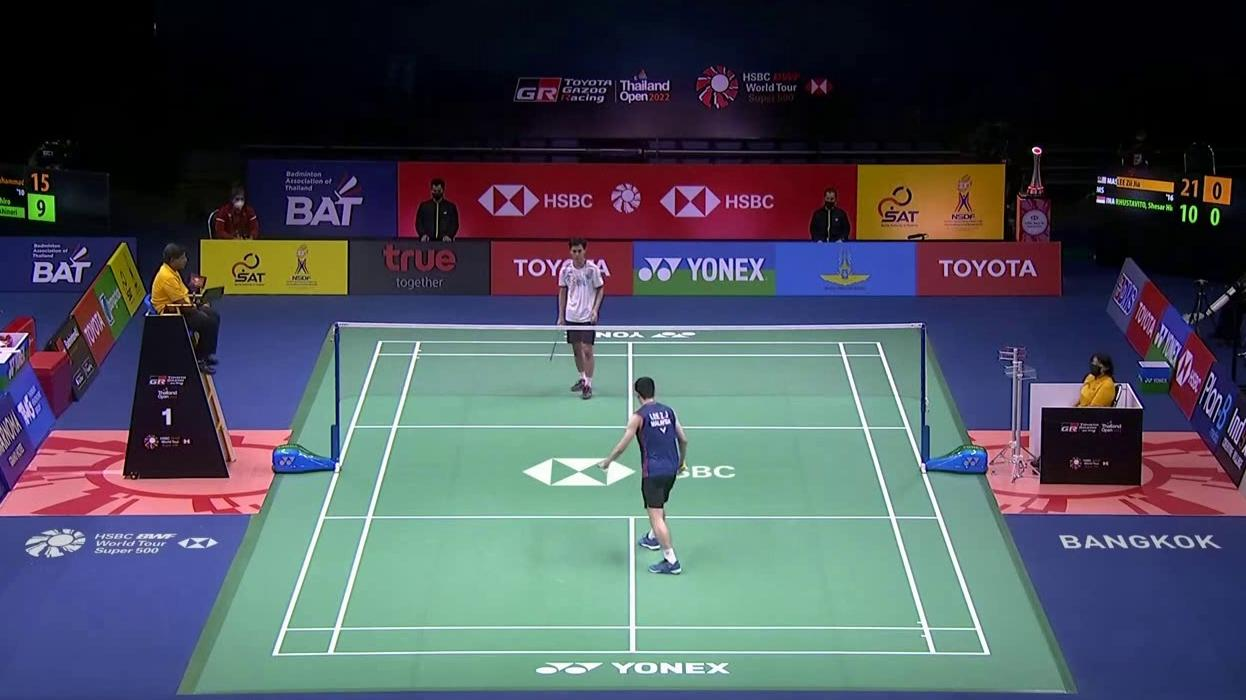racket: (550, 316, 566, 362)
shuttle: (596, 461, 611, 473)
